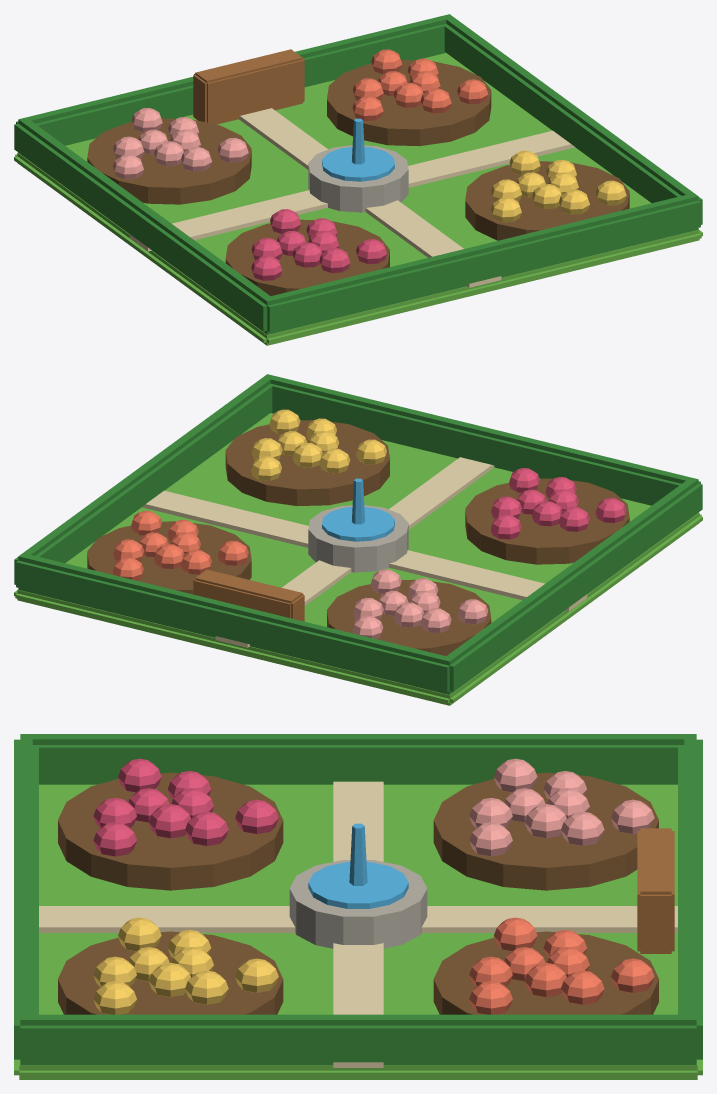
File: rosegarden.glb
3 views of the same model, one above another, from view 1: azimuth 30°, elevation 25°; view 2: azimuth 150°, elevation 25°; view 3: azimuth 270°, elevation 25° (orthographic). The views are drawn at different scales.
Visible parts, largest first — view 1: rosegarden; view 2: rosegarden; view 3: rosegarden.
Part boxes in pixels (bbox=[...]): rosegarden: bbox=[14, 14, 702, 345]; rosegarden: bbox=[14, 374, 702, 705]; rosegarden: bbox=[14, 734, 702, 1079].
Size of the model in its own units: 2.2 by 0.39 by 2.2.
